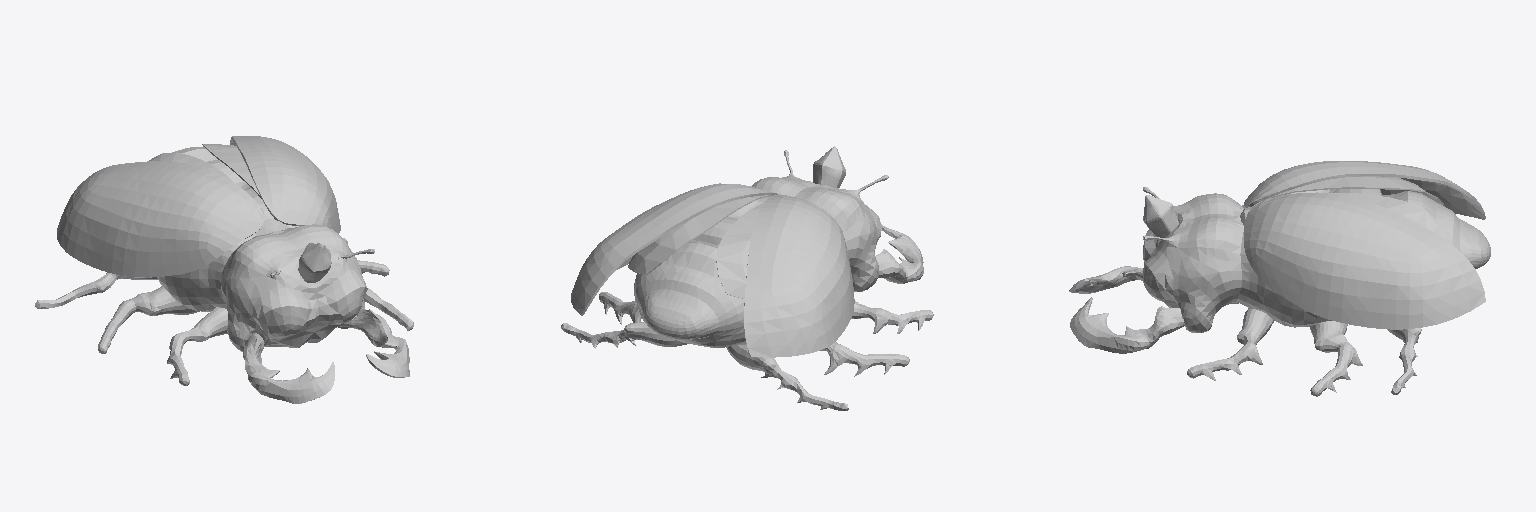
The model's file is walk.obj.
3 views of the same model, side by side, from view 1: azimuth 30°, elevation 25°; view 2: azimuth 150°, elevation 25°; view 3: azimuth 270°, elevation 25° (orthographic).
Parts seen in each view (by area): view 1: Full_LP_DEF_POSE_4:Mesh; view 2: Full_LP_DEF_POSE_4:Mesh; view 3: Full_LP_DEF_POSE_4:Mesh.
Boxes of the visible parts, x1=… form: Full_LP_DEF_POSE_4:Mesh: x1=35, y1=136, x2=413, y2=403; Full_LP_DEF_POSE_4:Mesh: x1=561, y1=146, x2=933, y2=410; Full_LP_DEF_POSE_4:Mesh: x1=1069, y1=161, x2=1490, y2=396.
Bounding box in the file's own units: 0.3769 × 0.1714 × 0.4573.